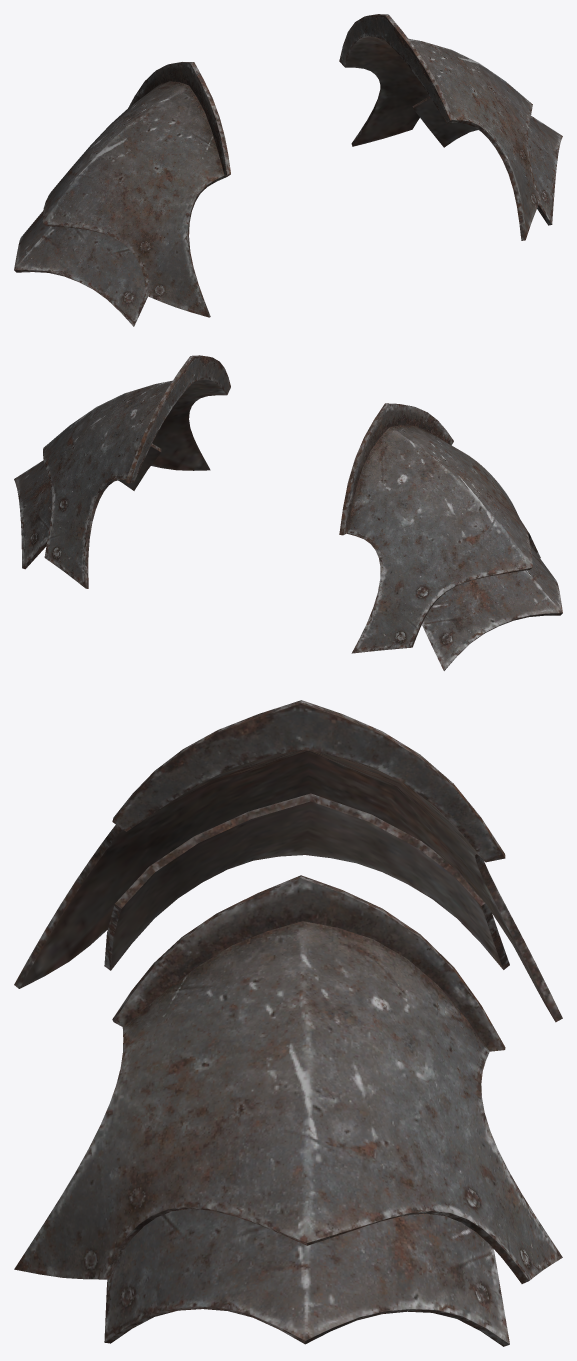
The model's file is sk_gb_uruk_pauldron_heavy_b.fbx.
3 renders of one model, top to bottom at view 1: azimuth 30°, elevation 25°; view 2: azimuth 150°, elevation 25°; view 3: azimuth 270°, elevation 25°, orthographic. The views are drawn at different scales.
Visible parts, largest first — view 1: sk_gb_uruk_pauldron_heavy_b; view 2: sk_gb_uruk_pauldron_heavy_b; view 3: sk_gb_uruk_pauldron_heavy_b.
Boxes of the visible parts, <box> form: sk_gb_uruk_pauldron_heavy_b: <box>14,14,562,326</box>; sk_gb_uruk_pauldron_heavy_b: <box>14,355,562,670</box>; sk_gb_uruk_pauldron_heavy_b: <box>14,700,562,1346</box>.
Size of the model in its own units: 0.6962 by 0.327 by 0.2427.
Materials: 1 (1 with a texture image).
